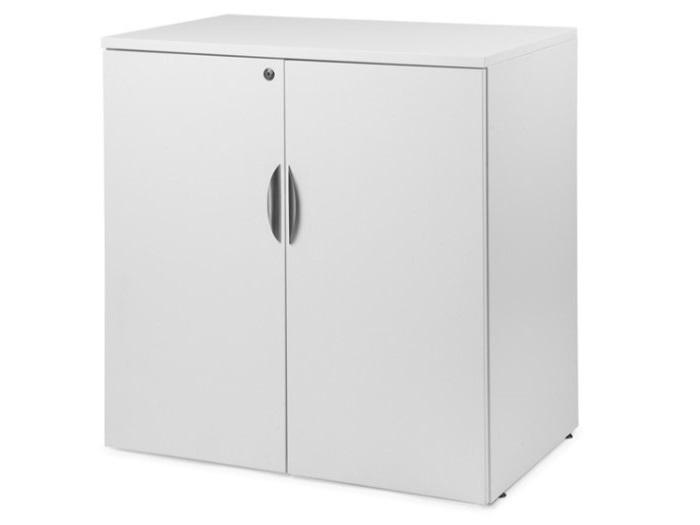cabinet_door: (285, 62, 489, 487), (103, 54, 287, 465)
handle: (262, 166, 286, 247), (288, 165, 306, 246)
